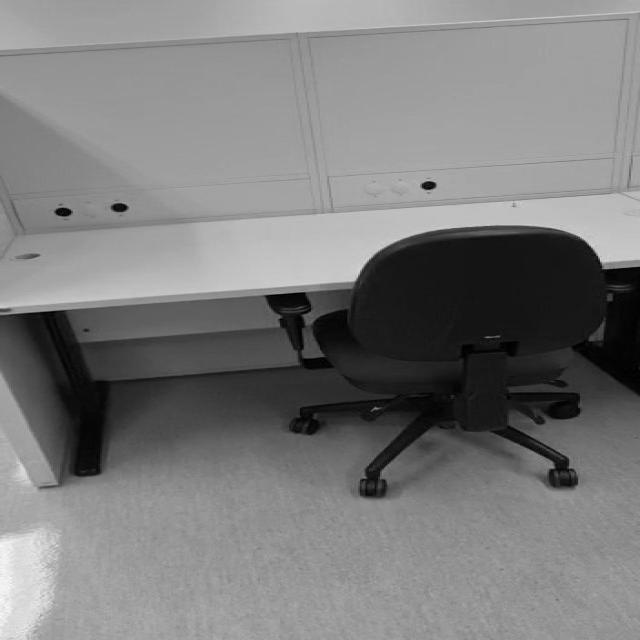cadeira-azul: (264, 226, 606, 500)
